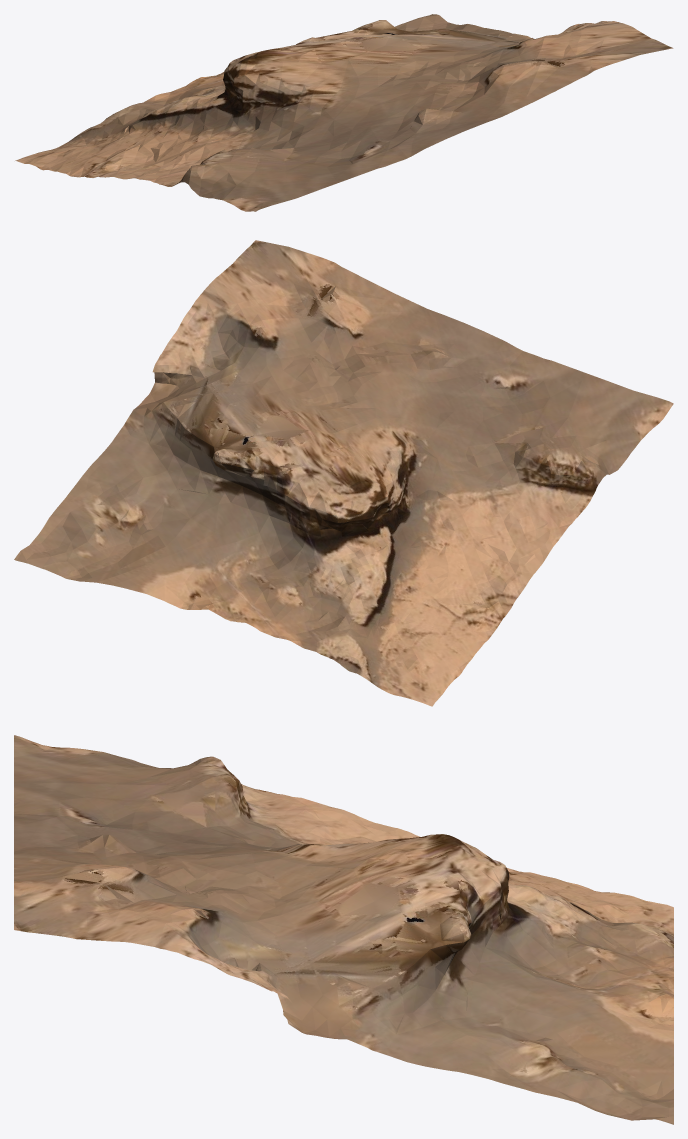
3 views of the same model, one above another, from view 1: azimuth 30°, elevation 25°; view 2: azimuth 150°, elevation 25°; view 3: azimuth 270°, elevation 25° (orthographic). The views are drawn at different scales.
Size of the model in its own units: 1.04 by 0.4512 by 1.04.
2 materials, 2 textured.
